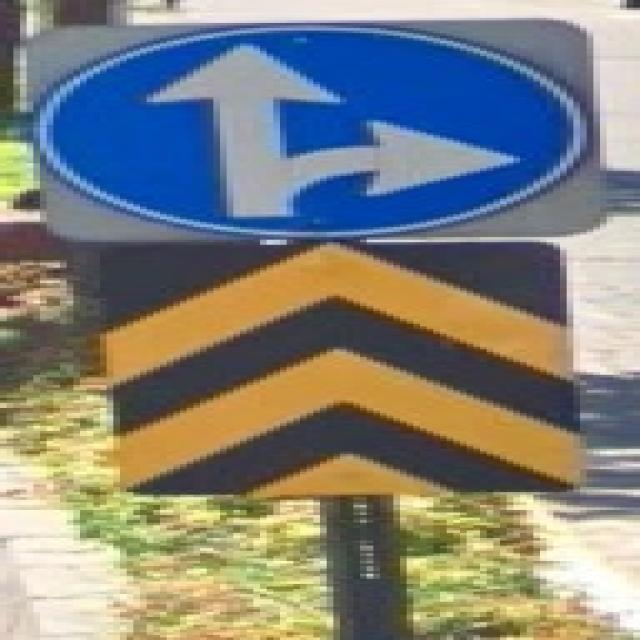Straight or Right: (24, 27, 578, 241)
